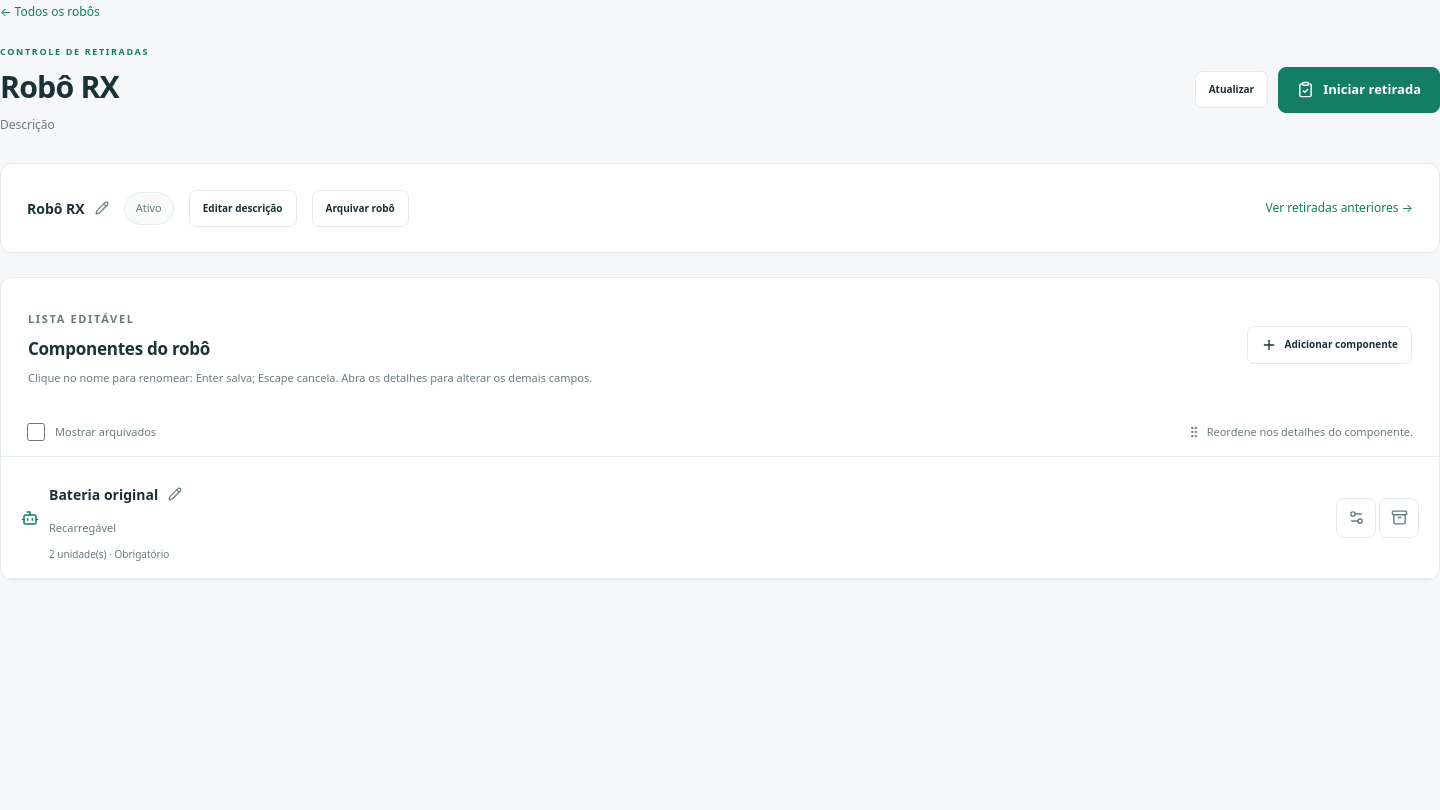
Test: mostra componentes antigos em uma lista e edita sem campos de categoria
Expected: the button "Bateria original" is shown, [49,472,182,516]
Click the button named "Editar detalhes de Bateria original": coordinates (1356, 518) [1336,498,1376,538]
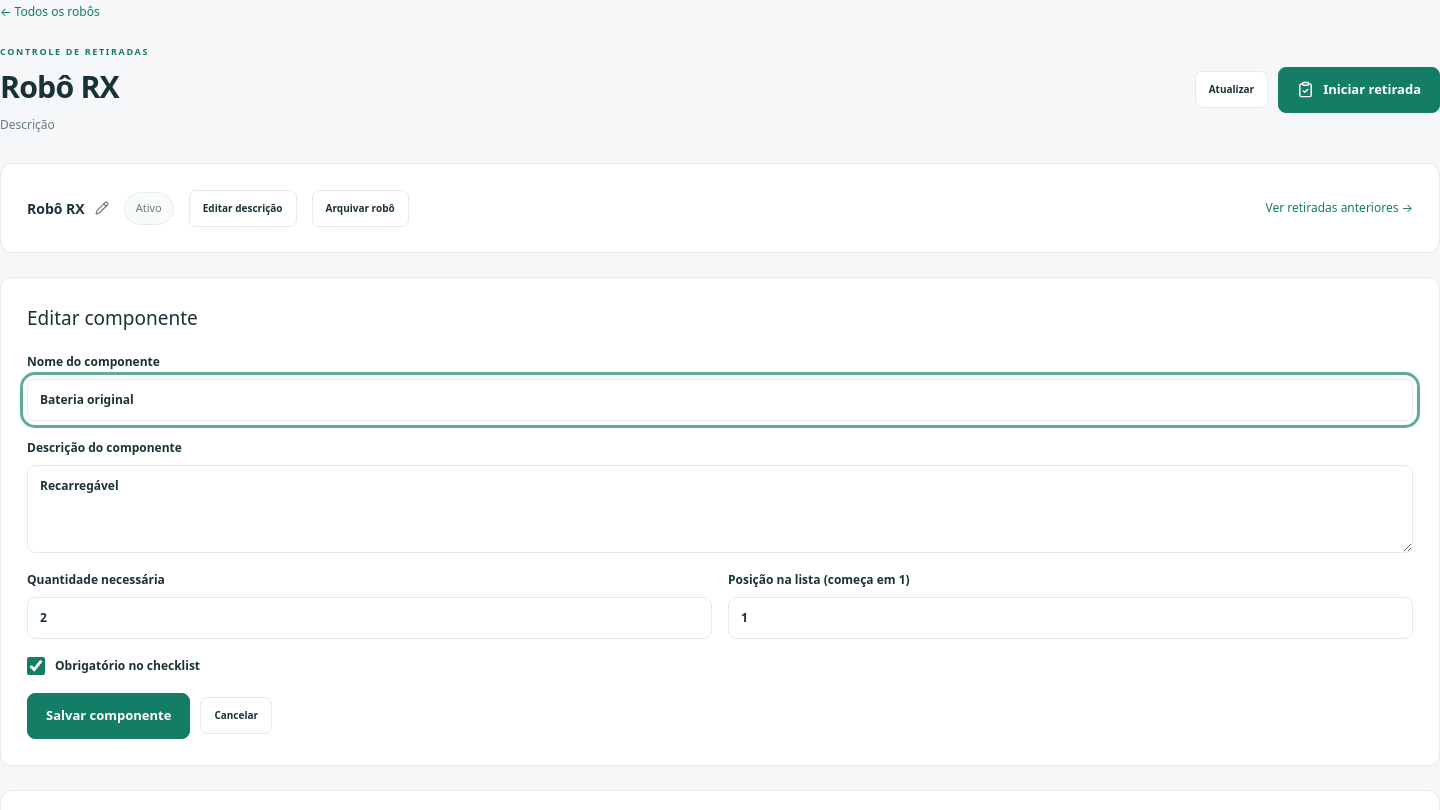
In the text box labelled "Descrição do componente": coordinates (720, 509) [27,465,1413,553], type " editada"
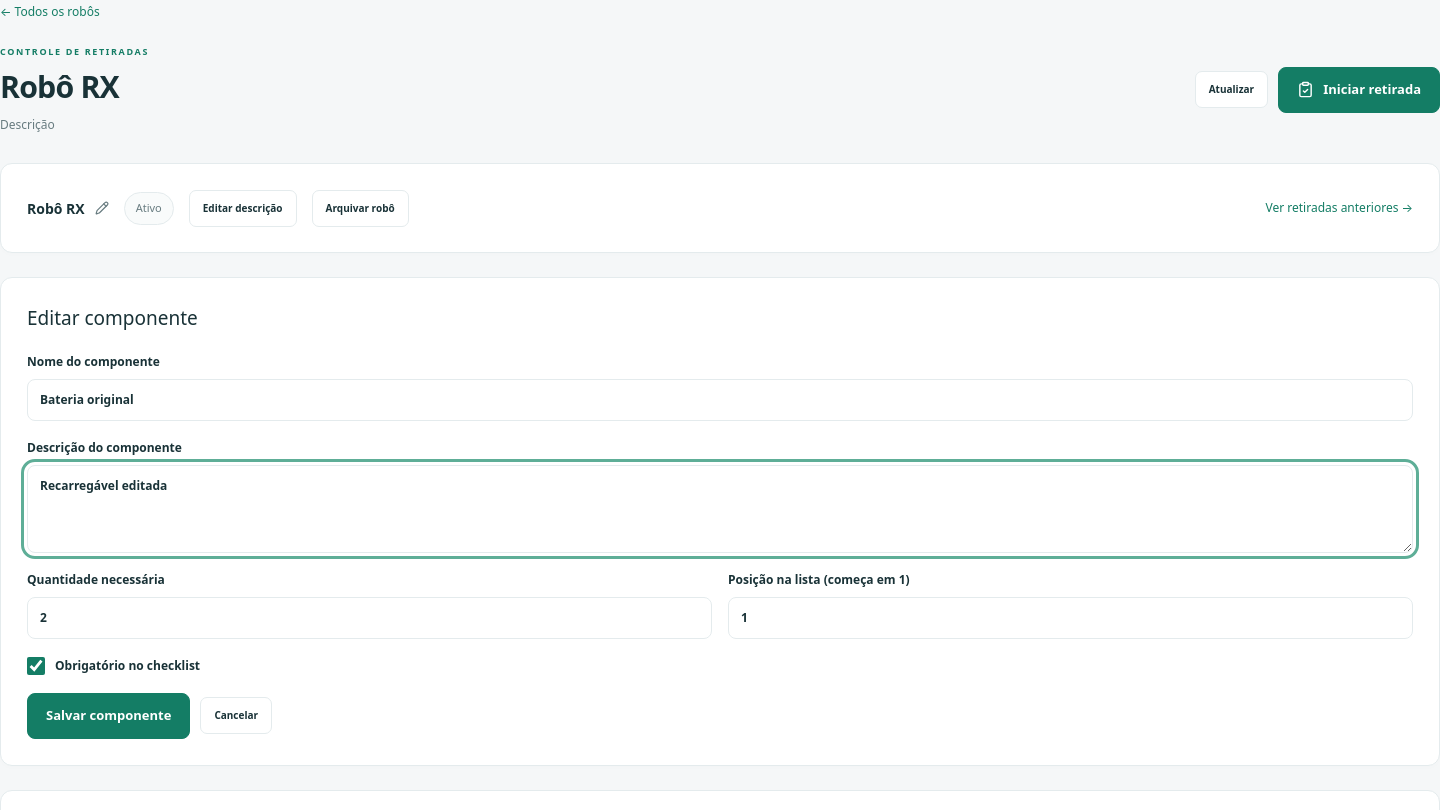
Click the button "Salvar componente": coordinates (109, 716) [27,693,190,739]
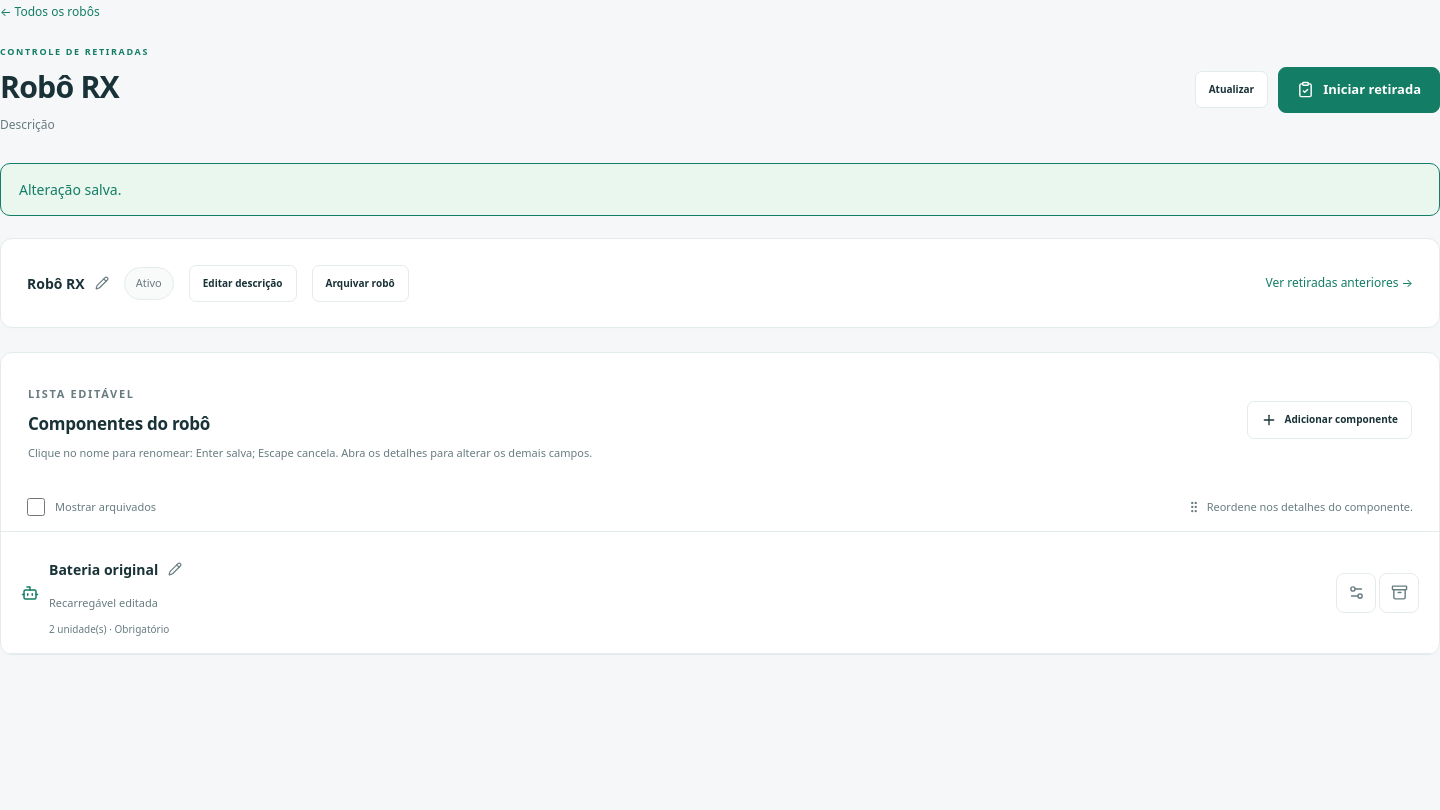
Result: the text "Recarregável editada" is shown at [49,595,158,610]
